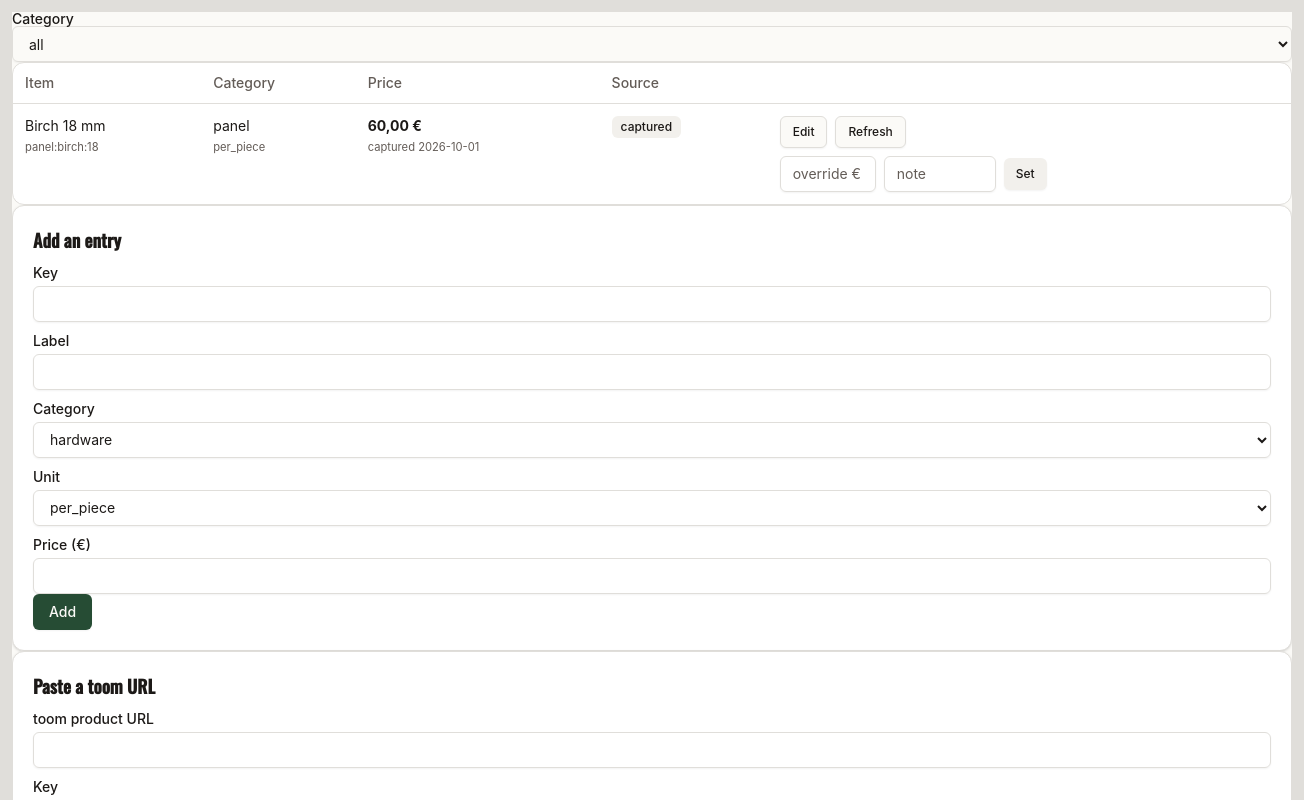
Test case: an override is set in cents and a refresh outcome is shown
The image size is (1304, 800).
Type "55" into the field named "override for panel:birch:18" at (828, 174), box [780,156,876,192]
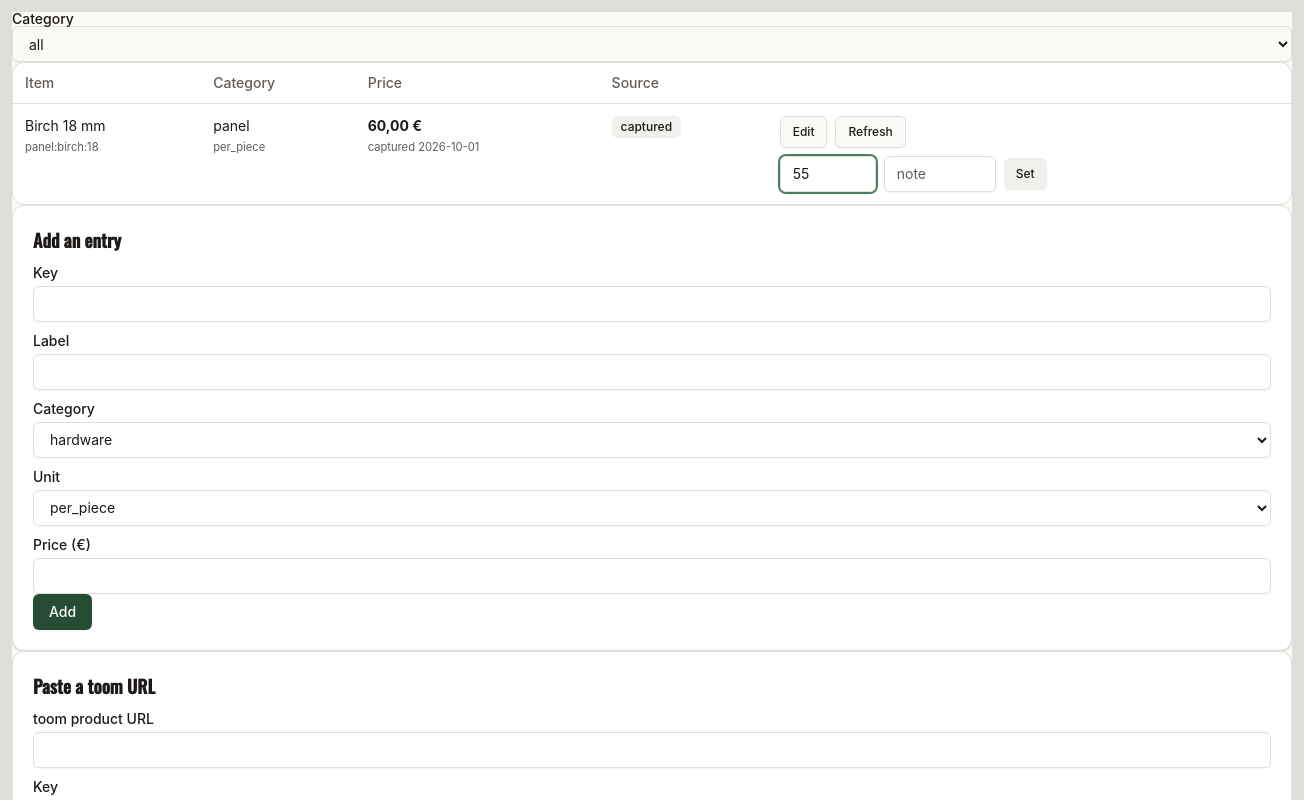
Click the button with aria-label "Set override on panel:birch:18" at (1025, 174), box [1004,158,1047,190]
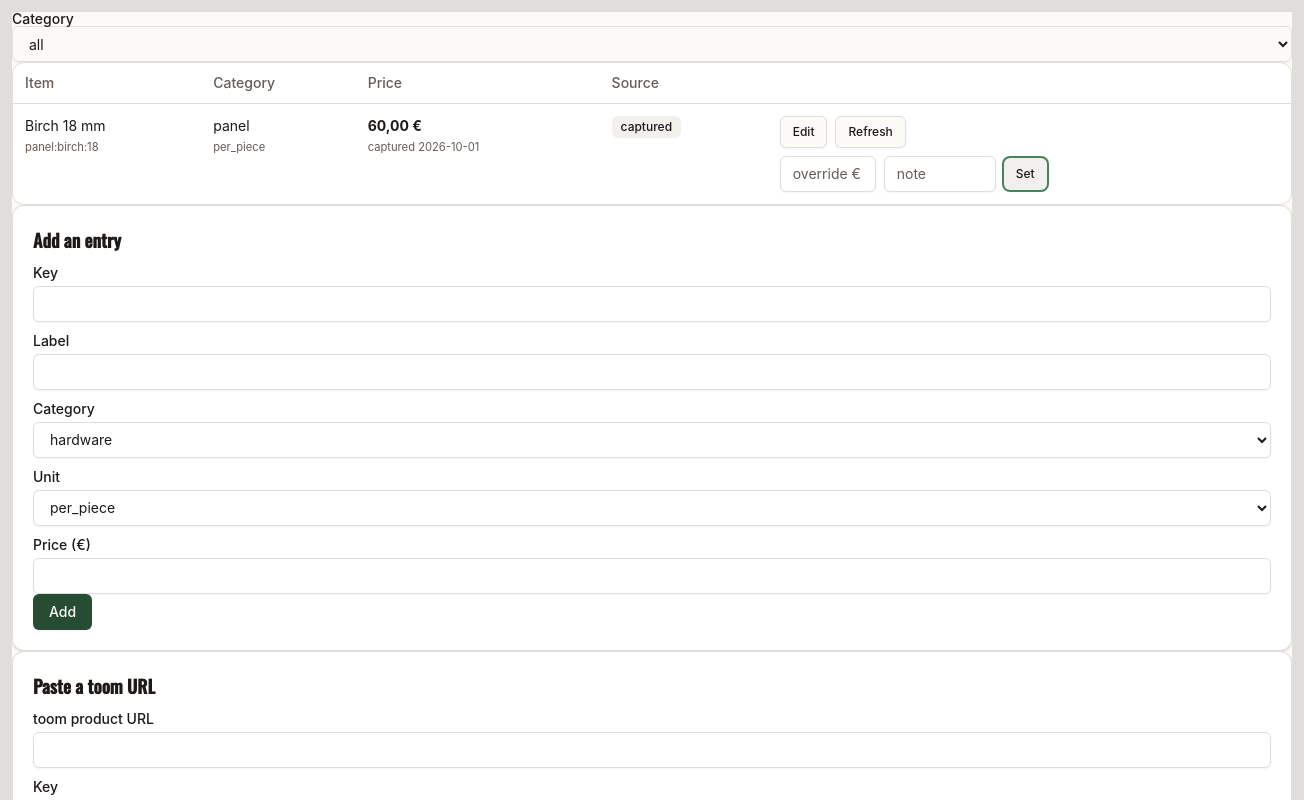
Click the button with aria-label "Refresh panel:birch:18" at (871, 132), box [836,116,906,148]
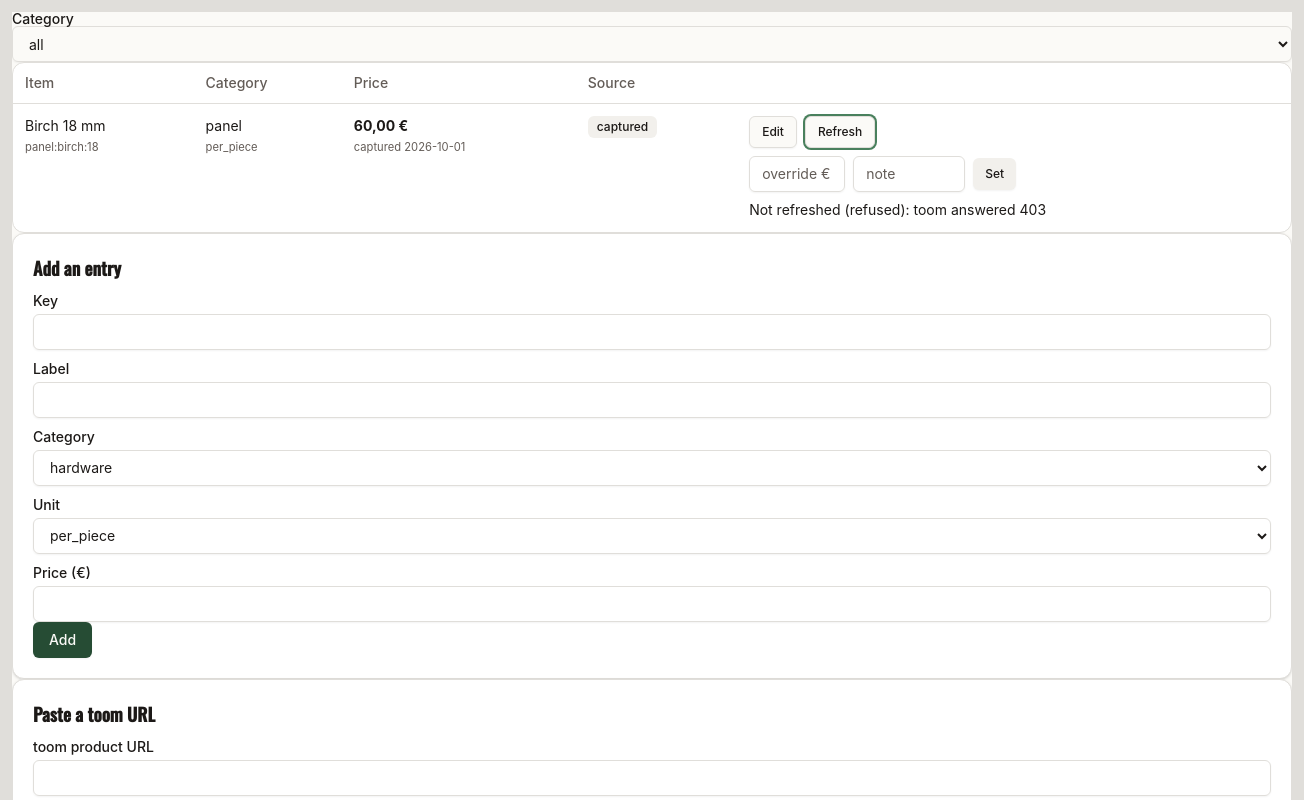
Now the text "Not refreshed (refused): toom answered 403" is shown, box [749,200,1046,218]
